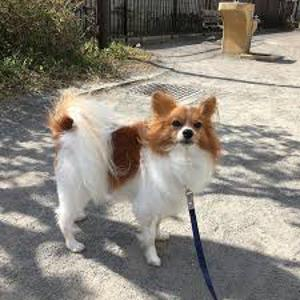yell: (47, 91, 217, 266)
